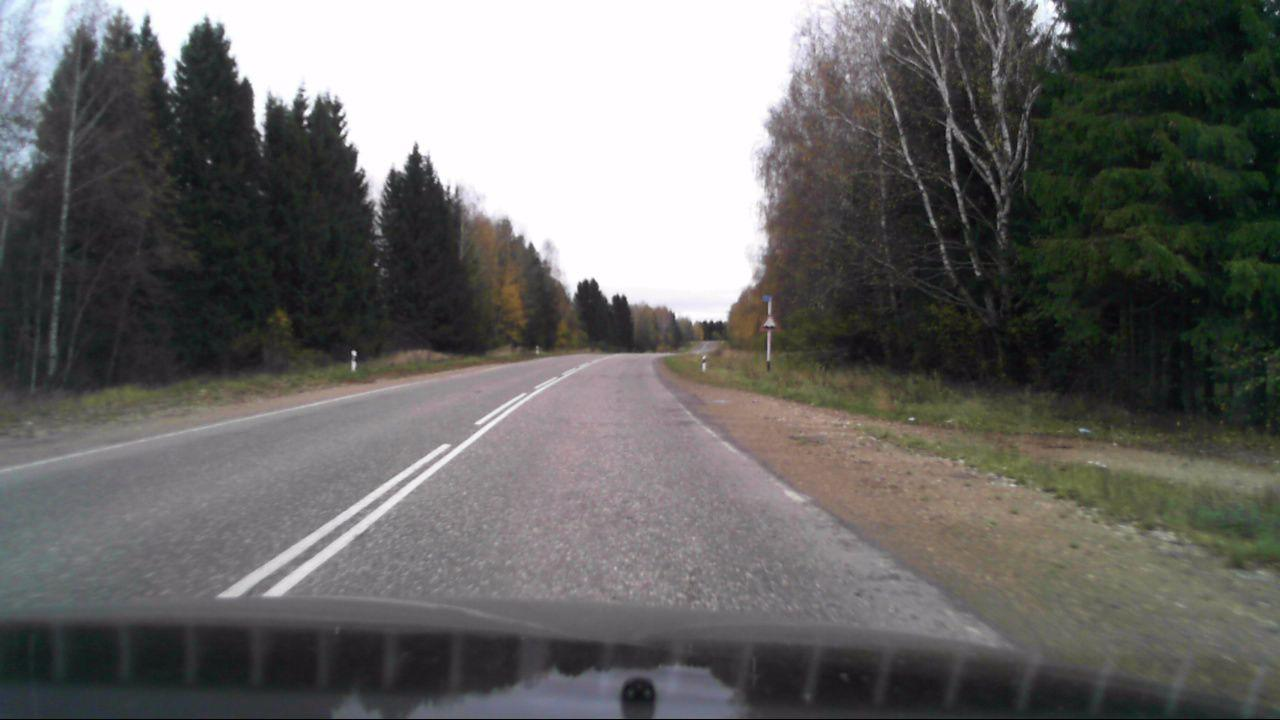1_16: (761, 314, 778, 331)
